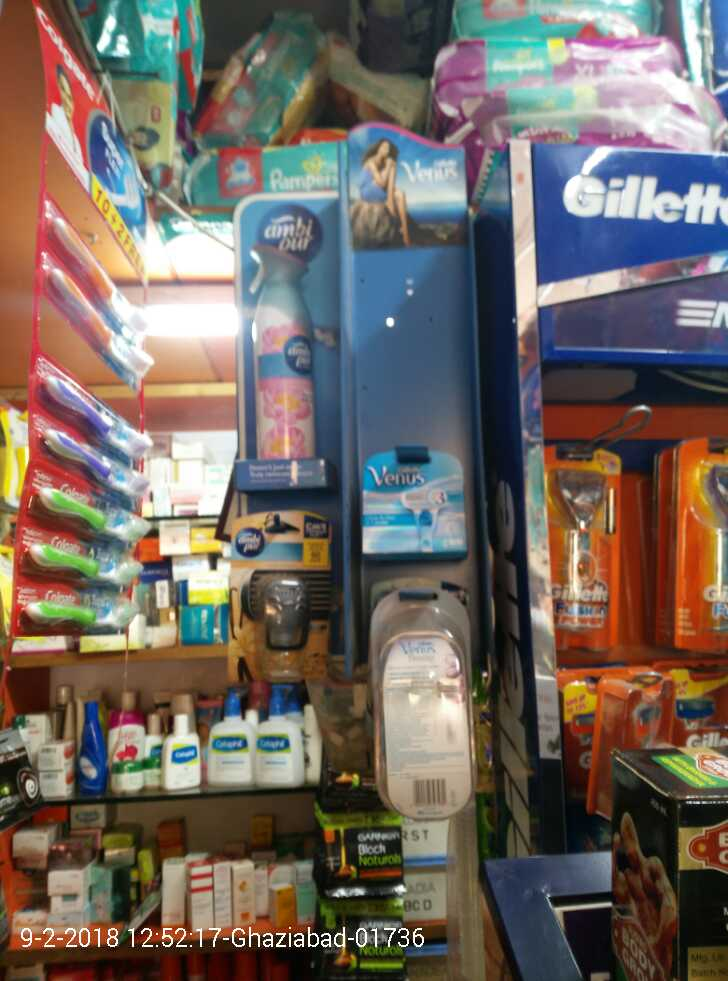beauty: (543, 449, 618, 649)
home: (243, 204, 330, 465)
pharmacy: (433, 41, 678, 98), (502, 86, 711, 152), (193, 147, 345, 199)
